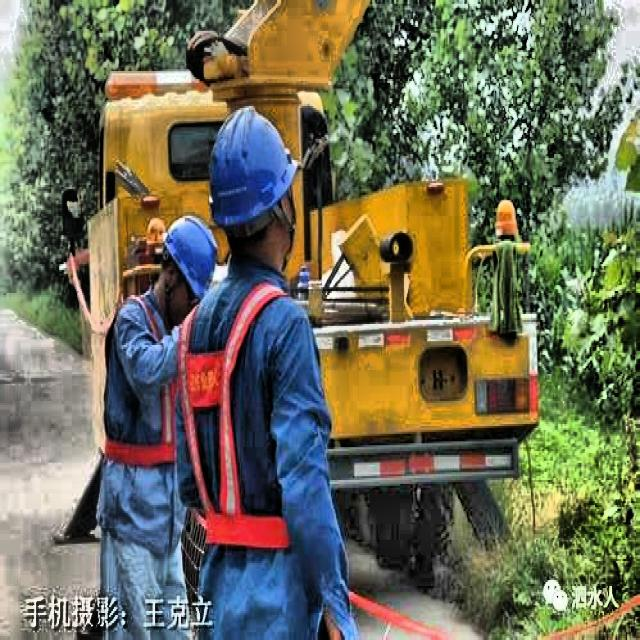helmet: (209, 96, 305, 276), (153, 210, 218, 318)
